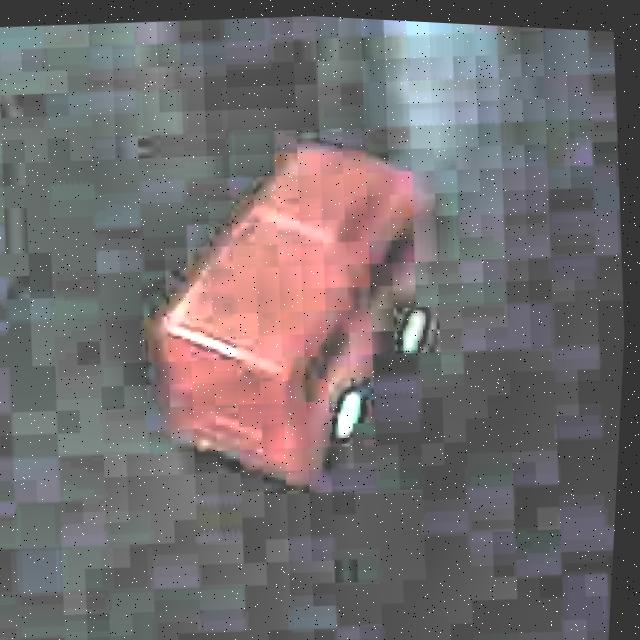bus: (123, 109, 463, 507)
